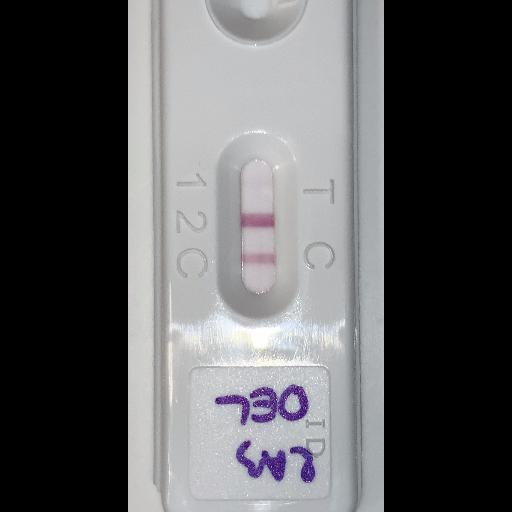Pos: (155, 0, 355, 511)
